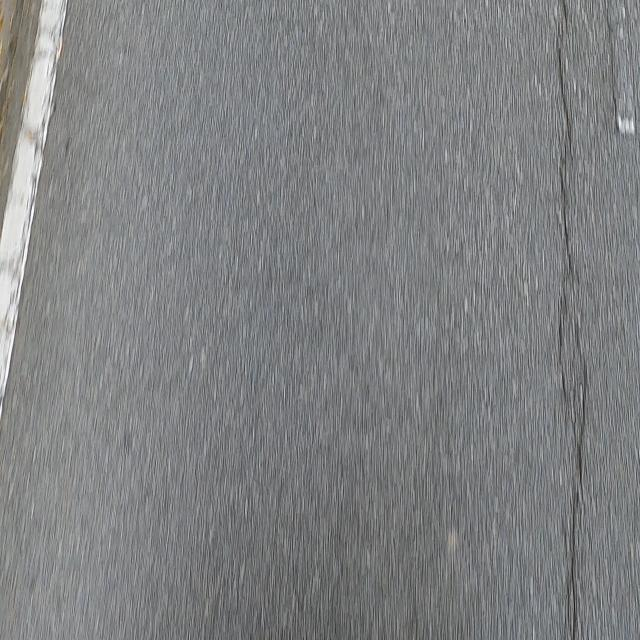Retak-Memanjang: (550, 3, 579, 402), (564, 329, 591, 633)
